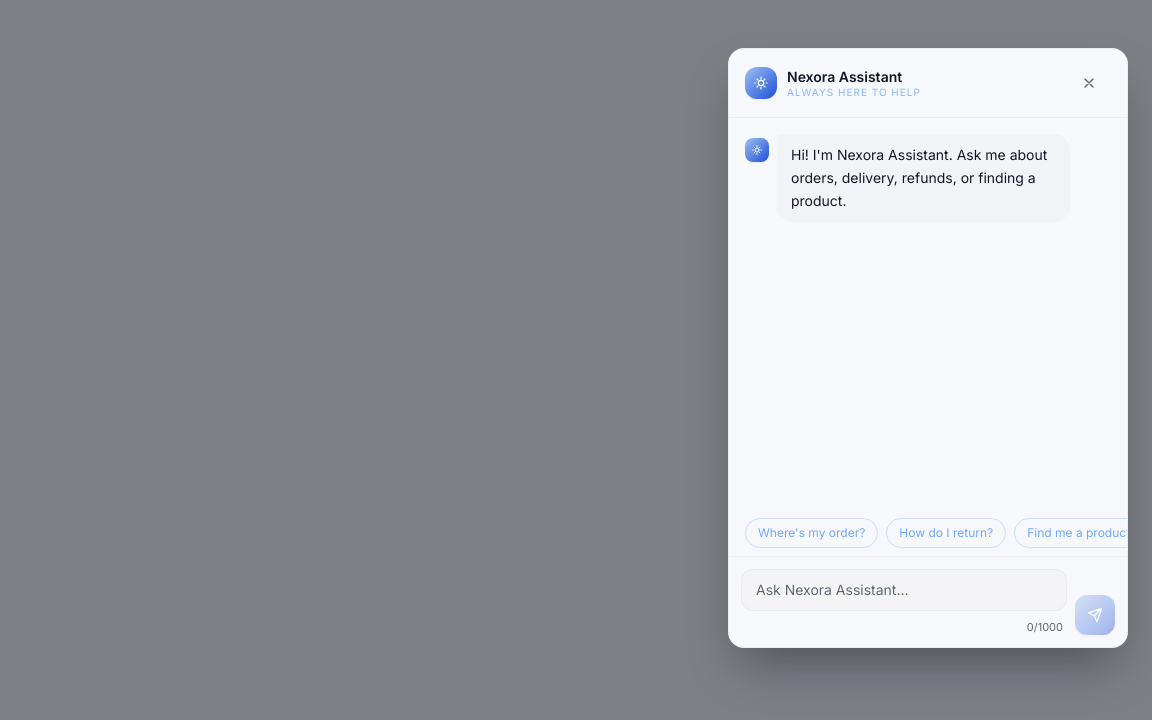
Test case: NexoraAIDrawer › sends a typed message and shows the reply
Type "where is my order" into the text box with placeholder "Ask Nexora Assistant…" at {"x": 904, "y": 590}, box [741,568,1067,610]
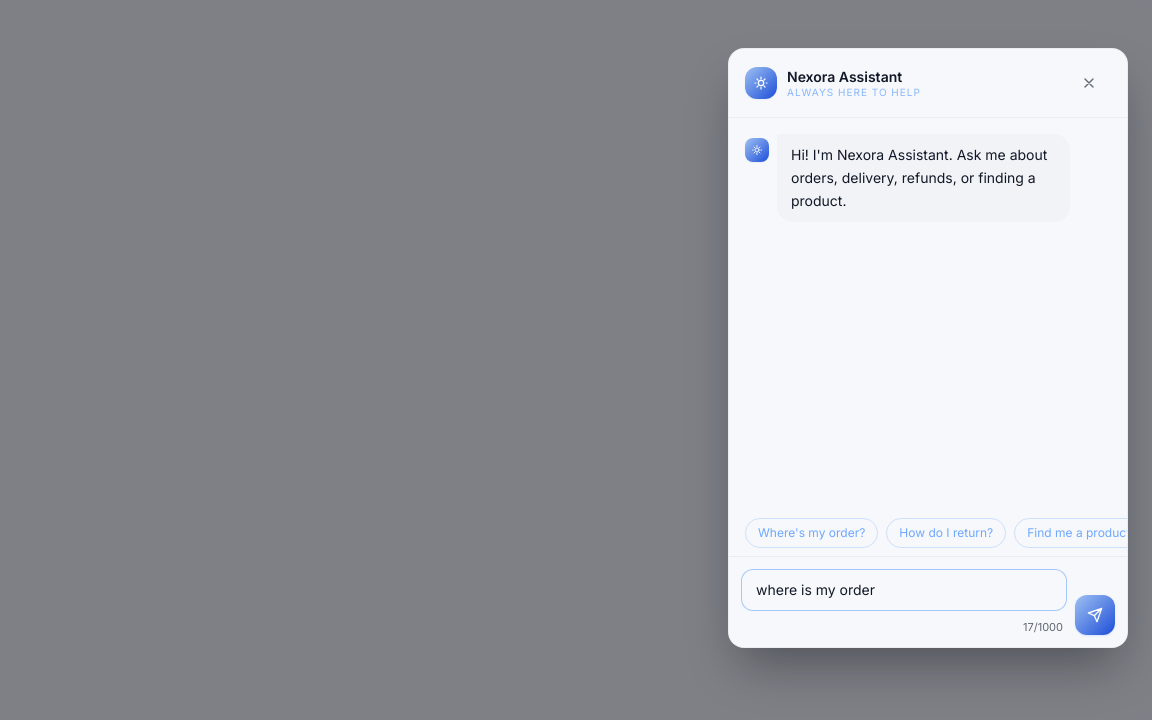
Click the button named "send" at {"x": 1095, "y": 615}, box [1075,595,1115,635]
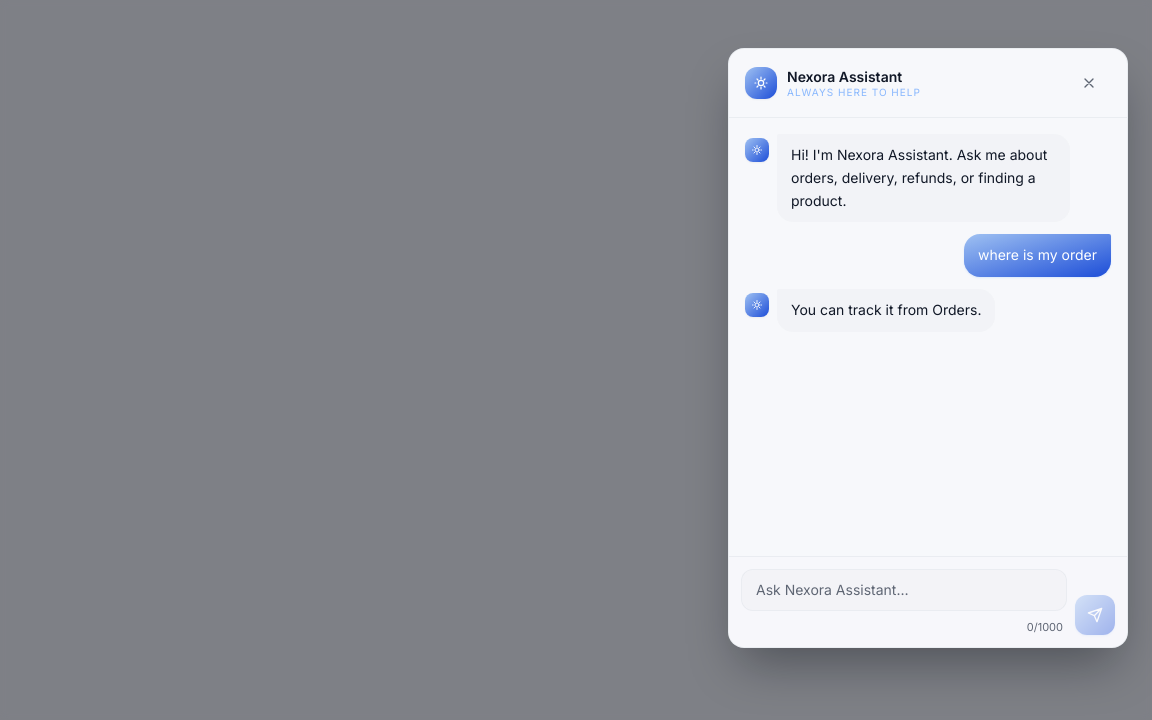
Expected: the text "You can track it from Orders." is shown, [777,289,996,332]
Expected: the text "where is my order" is shown, [964,234,1111,277]
